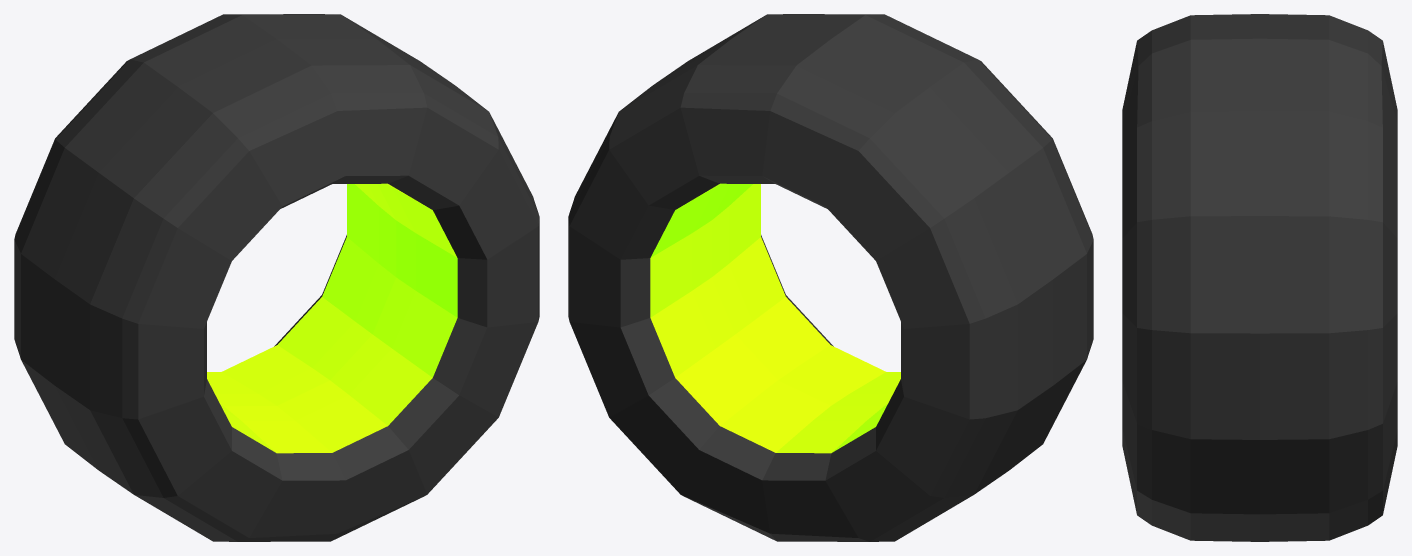
The model's file is wheel43.fbx.
3 views of the same model, side by side, from view 1: azimuth 30°, elevation 25°; view 2: azimuth 150°, elevation 25°; view 3: azimuth 270°, elevation 25° (orthographic).
Parts seen in each view (by area): view 1: lanot_wheel42_L; view 2: lanot_wheel42_L; view 3: lanot_wheel42_L.
Part boxes in pixels (box(x1,y1,x2,y2)): lanot_wheel42_L: box(14, 14, 539, 541); lanot_wheel42_L: box(568, 14, 1093, 541); lanot_wheel42_L: box(1122, 14, 1397, 541).
Size of the model in its own units: 152 by 156 by 81.28.
